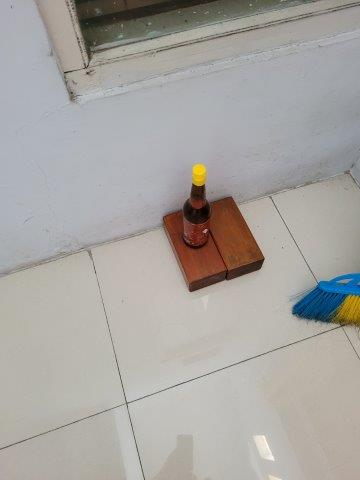botolkaca: (181, 164, 211, 245)
